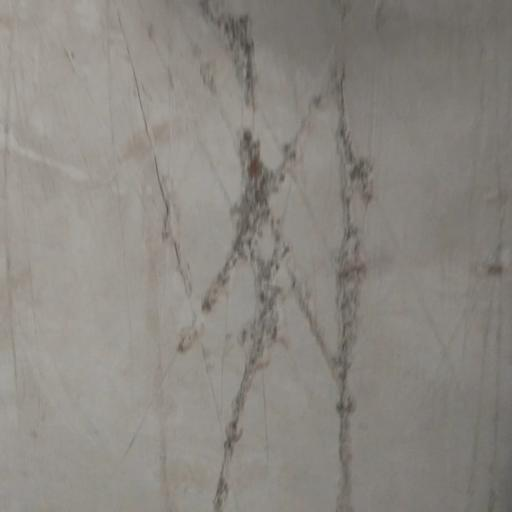stain: (78, 1, 398, 512), (430, 203, 512, 512), (0, 125, 61, 435)
